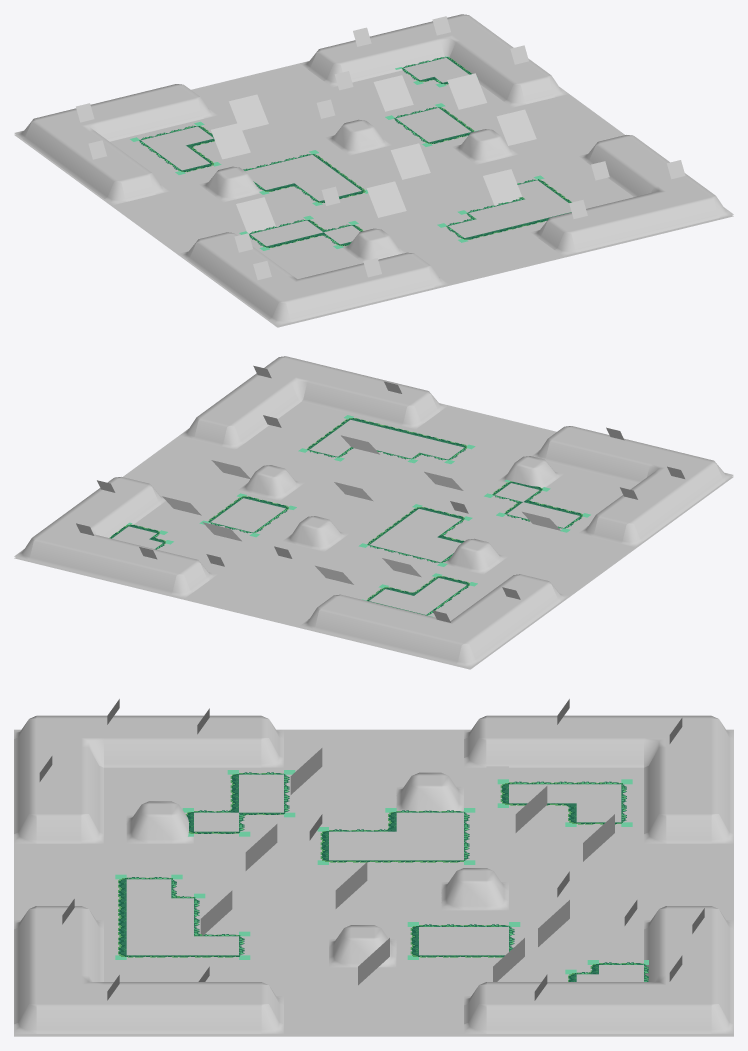
File: Safari Zone_Areas - Wasteland.dae
3 views of the same model, one above another, from view 1: azimuth 30°, elevation 25°; view 2: azimuth 150°, elevation 25°; view 3: azimuth 270°, elevation 25° (orthographic). The views are drawn at different scales.
Visible parts, largest first — view 1: m_saf10_00_00c; view 2: m_saf10_00_00c; view 3: m_saf10_00_00c.
Part boxes in pixels (x1,y1,x2,y2): m_saf10_00_00c: (14, 14, 733, 327); m_saf10_00_00c: (14, 356, 733, 669); m_saf10_00_00c: (14, 699, 733, 1036).
Bounding box in the file's own units: 512 × 512 × 33.97.
